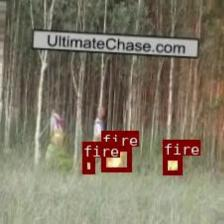fire: (101, 146, 131, 171), (163, 155, 181, 173), (82, 158, 94, 174)
